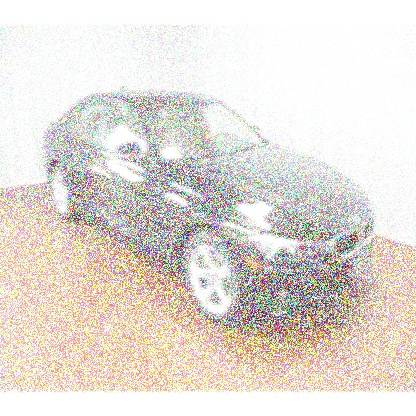Vehicle: (43, 87, 377, 328)
